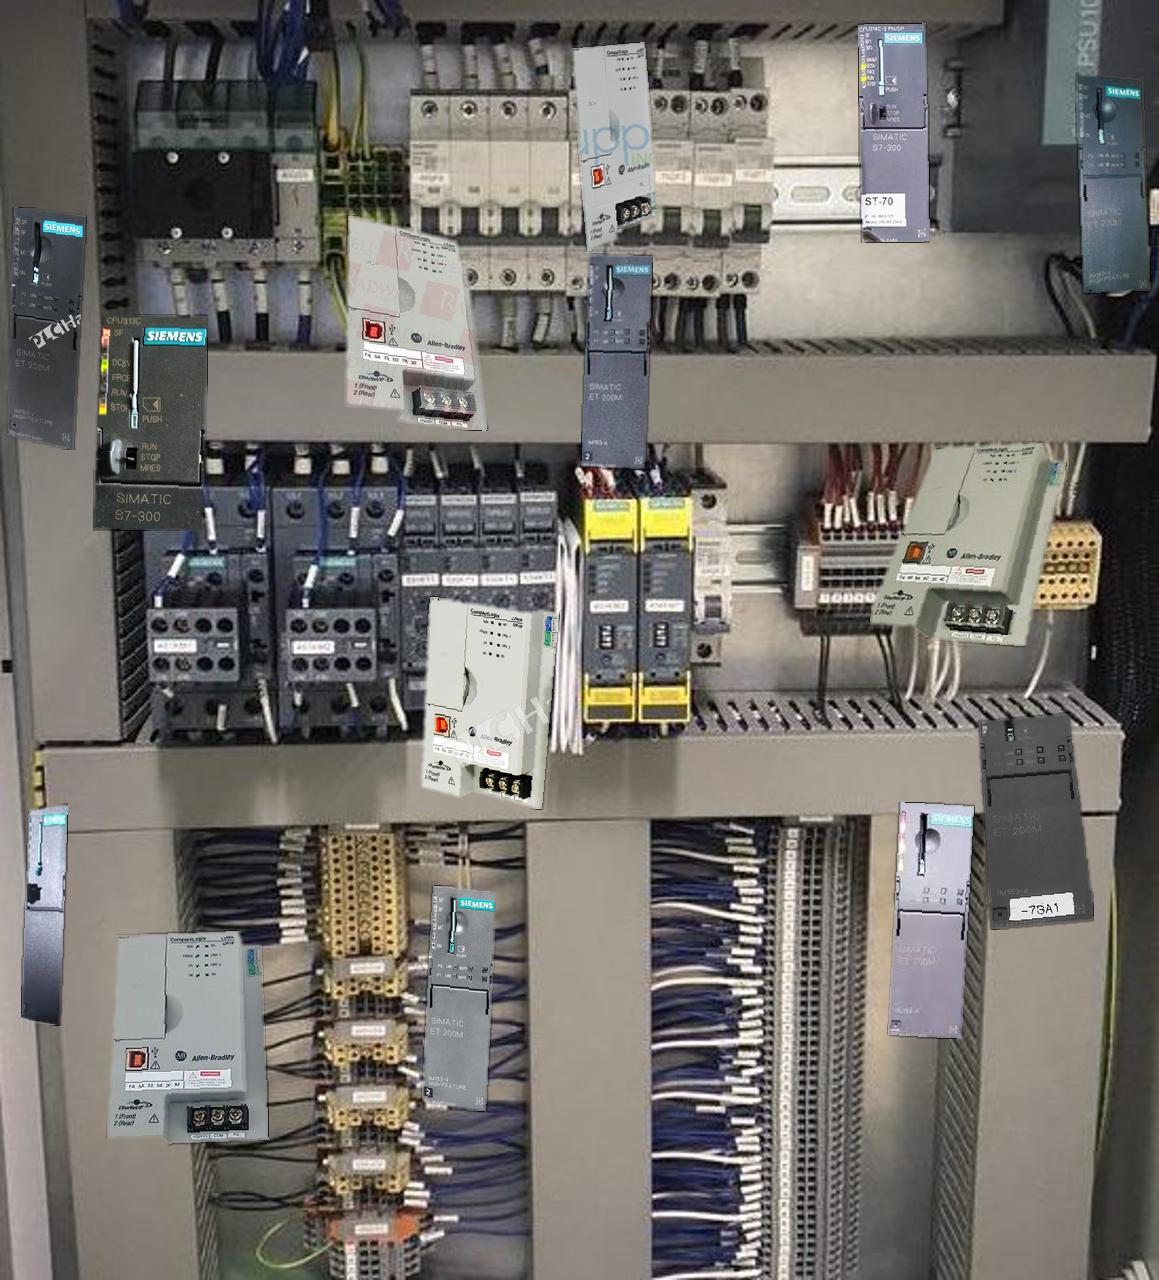AllenBradley: (870, 443, 1065, 644), (107, 931, 268, 1143), (346, 215, 486, 430), (421, 597, 558, 808), (572, 43, 656, 250)
Siemens: (93, 316, 207, 529), (858, 23, 929, 242), (21, 805, 67, 1025)
